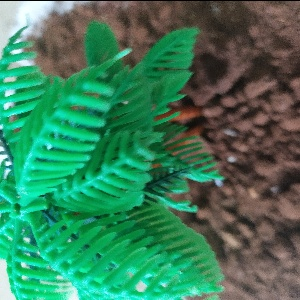plant: (3, 38, 230, 300)
